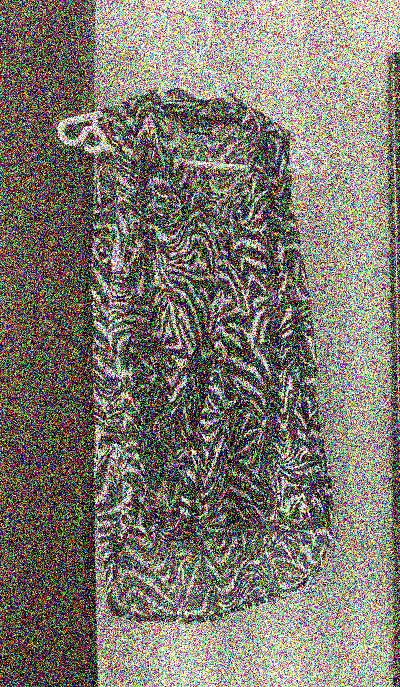Dress: (37, 73, 362, 634)
